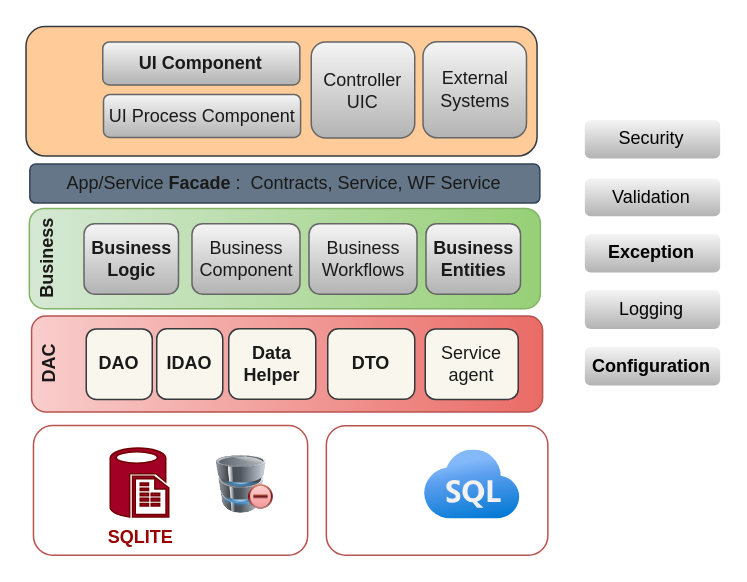
The diagram is 747 pixels wide and 582 high, and some of its shapes have lost their labels. The box of each missing label's shape, as (x1, y1, x2, y2) in pixels:
Data Service: (325, 424, 548, 555)
Data Sources: (32, 424, 308, 555)
database: (216, 454, 273, 513)
User Interface: (24, 25, 537, 156)
